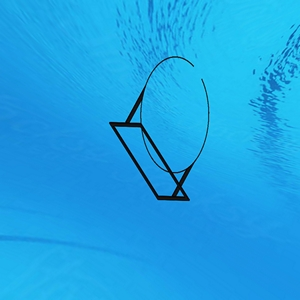circle: (108, 53, 212, 204)
